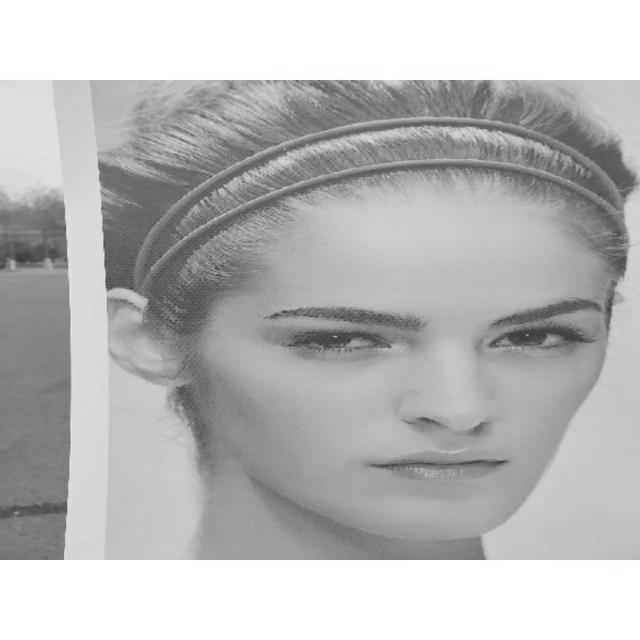fake: (44, 80, 638, 558)
